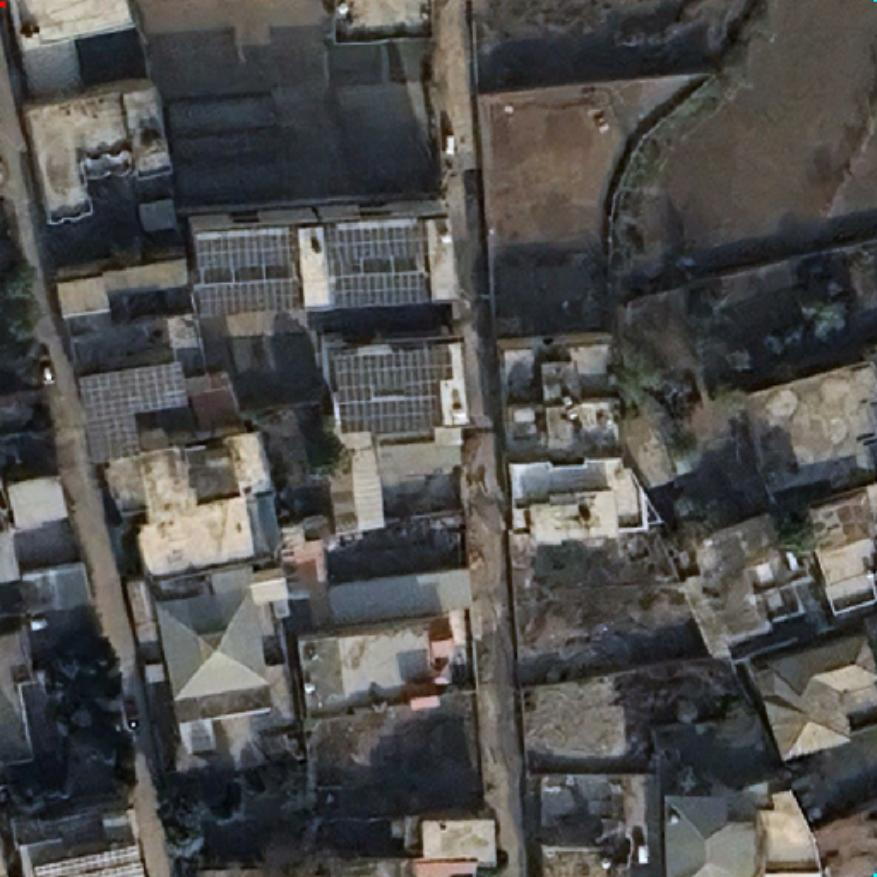Solarpanel: (76, 360, 197, 472), (332, 345, 452, 435), (194, 228, 304, 316), (322, 222, 430, 306)
